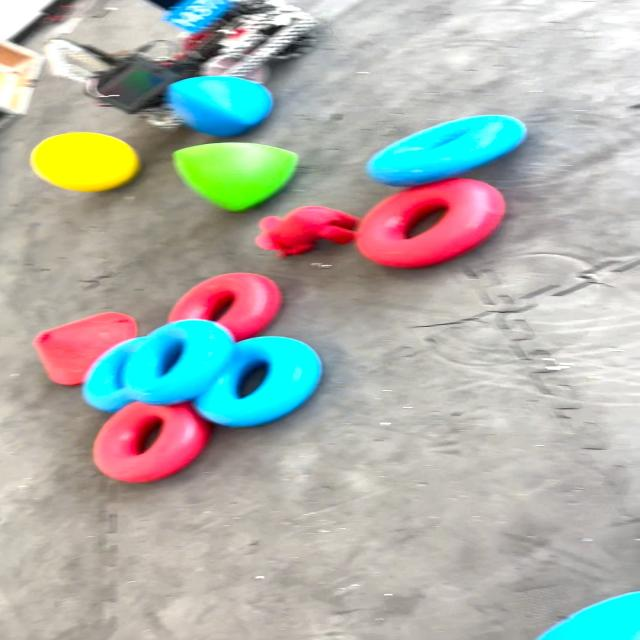Blue-Ring: (193, 336, 322, 428), (367, 115, 527, 186), (124, 319, 236, 405), (82, 336, 149, 412)
Red-Ring: (356, 179, 504, 268), (93, 401, 211, 482), (169, 272, 282, 341)
